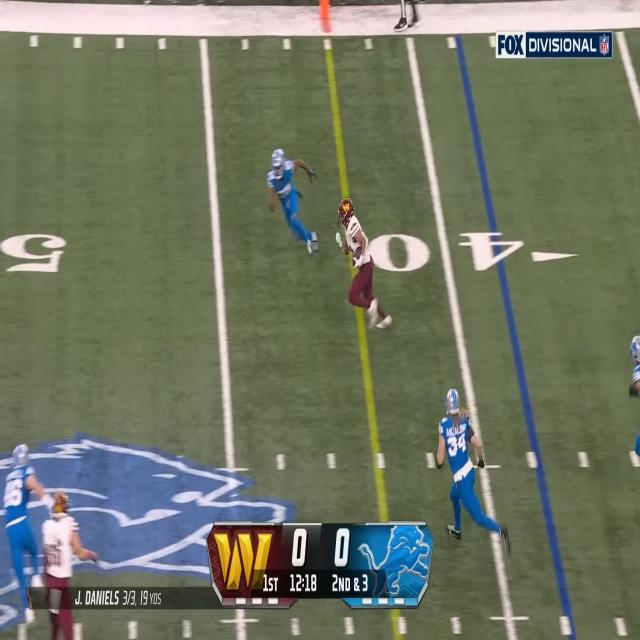Ball: (353, 246, 362, 267)
